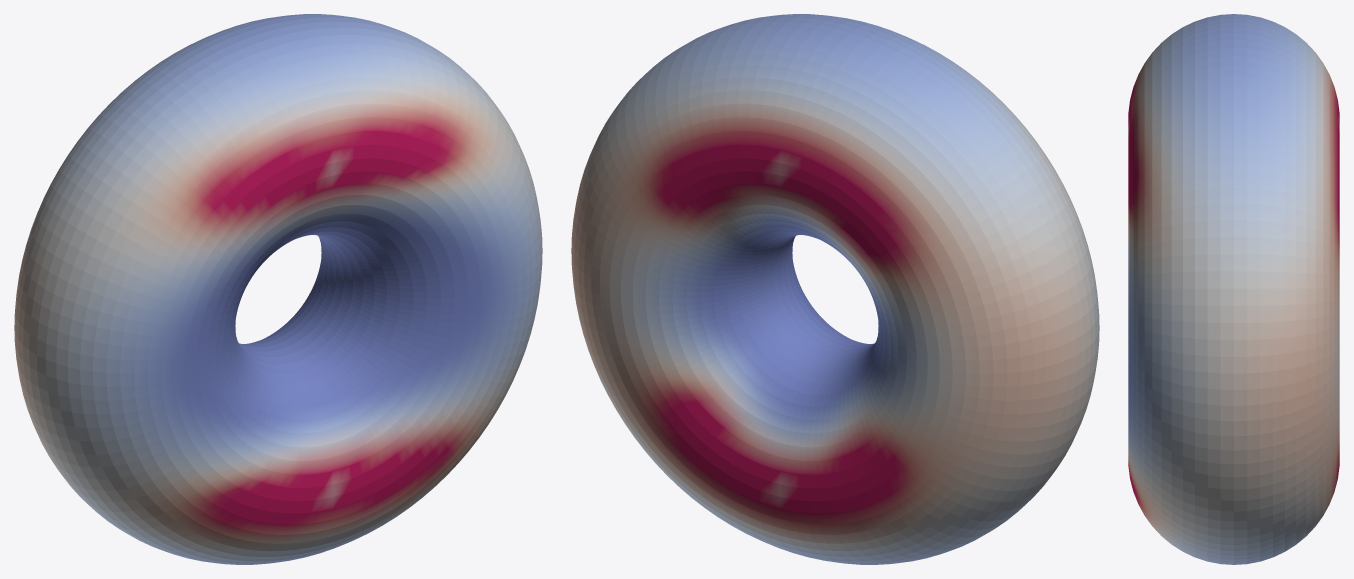
3 renders of one model, left to right at view 1: azimuth 30°, elevation 25°; view 2: azimuth 150°, elevation 25°; view 3: azimuth 270°, elevation 25°, orthographic. The views are drawn at different scales.
Visible parts, largest first — view 1: world; view 2: world; view 3: world.
Boxes of the visible parts, x1,y1,x2,y2 form: world: (14, 14, 542, 564); world: (571, 14, 1099, 564); world: (1128, 14, 1339, 564).
Bounding box in the file's own units: 18.4 × 18.4 × 7.05.
